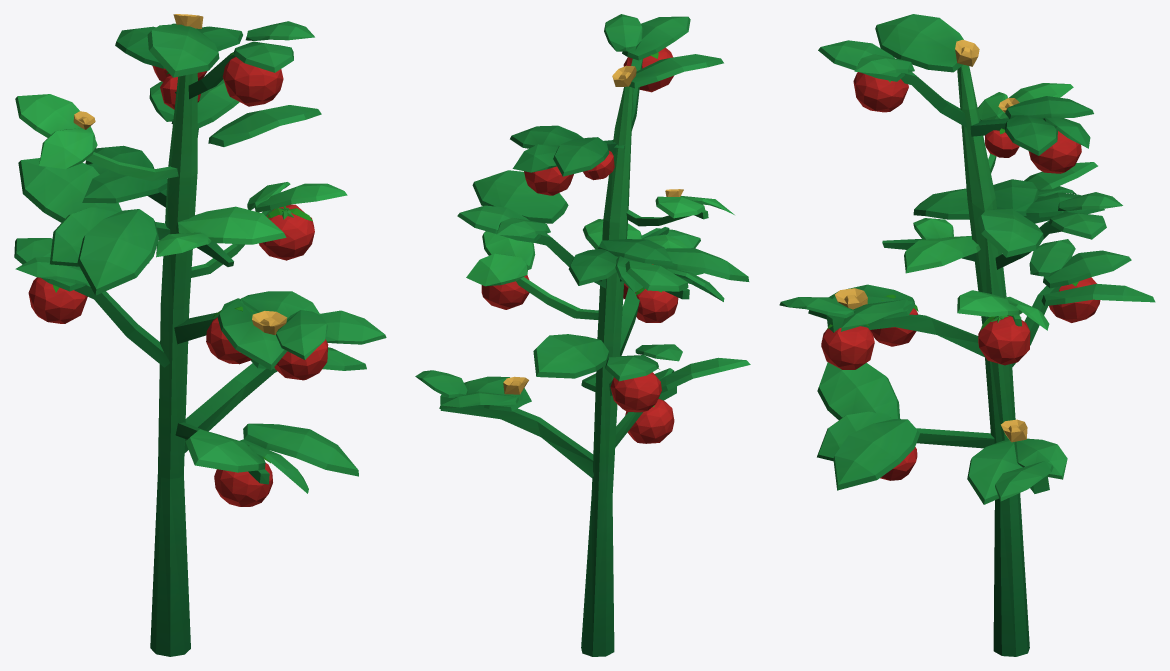
Rendered from crop_tomato_stage3.glb.
3 renders of one model, left to right at view 1: azimuth 30°, elevation 25°; view 2: azimuth 150°, elevation 25°; view 3: azimuth 270°, elevation 25°, orthographic. The views are drawn at different scales.
Parts seen in each view (by area): view 1: crop_tomato_stage3; view 2: crop_tomato_stage3; view 3: crop_tomato_stage3.
Part boxes in pixels (x1=…): crop_tomato_stage3: x1=14, y1=14, x2=386, y2=656; crop_tomato_stage3: x1=415, y1=14, x2=750, y2=656; crop_tomato_stage3: x1=779, y1=14, x2=1155, y2=656.
Size of the model in its own units: 0.5584 by 1 by 0.559.
1 material, 1 textured.
